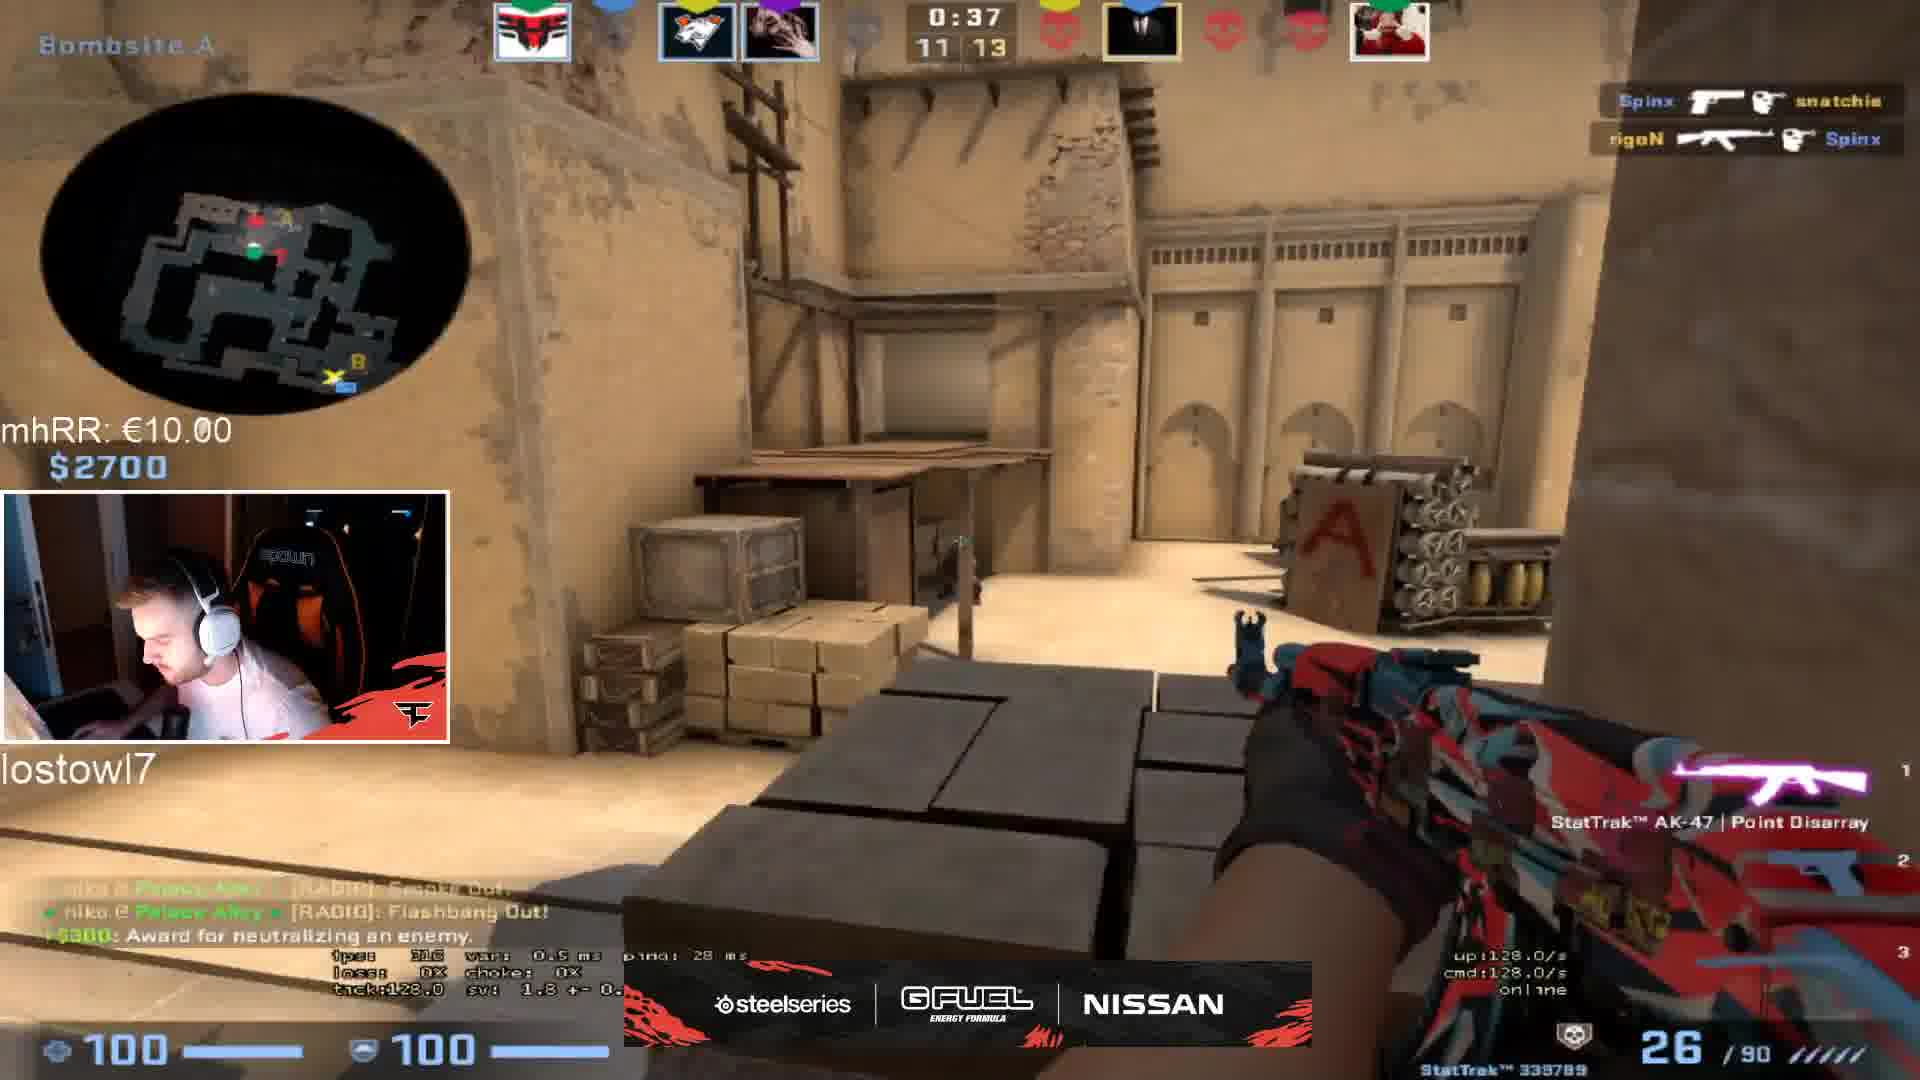enemy: (934, 541, 963, 605)
